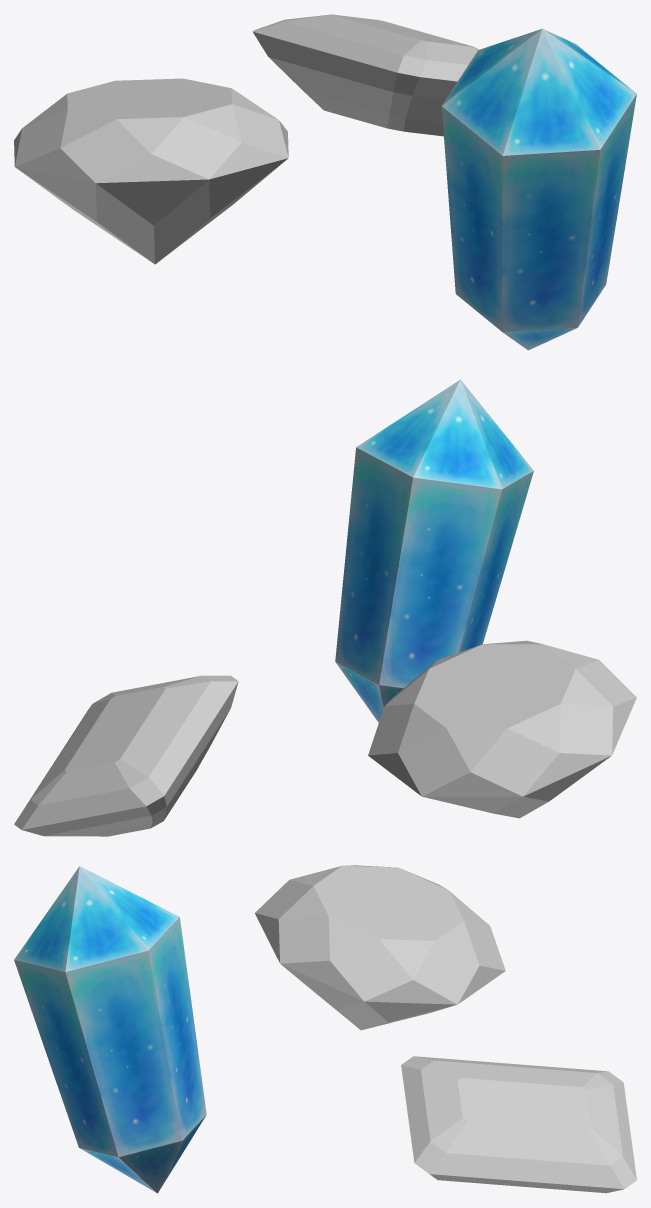
Rendered from uploads_files_741489_GemTriplePack.fbx.
3 renders of one model, top to bottom at view 1: azimuth 30°, elevation 25°; view 2: azimuth 150°, elevation 25°; view 3: azimuth 270°, elevation 25°, orthographic. The views are drawn at different scales.
Parts seen in each view (by area): view 1: Cylinder, Gem, Cube; view 2: Cylinder, Gem, Cube; view 3: Cylinder, Gem, Cube.
Part boxes in pixels (x1=…): Cylinder: x1=441, y1=28, x2=636, y2=350; Gem: x1=14, y1=78, x2=288, y2=264; Cube: x1=252, y1=14, x2=478, y2=136; Cylinder: x1=335, y1=379, x2=533, y2=722; Gem: x1=368, y1=640, x2=636, y2=818; Cube: x1=14, y1=675, x2=238, y2=836; Cylinder: x1=14, y1=866, x2=206, y2=1193; Gem: x1=255, y1=865, x2=505, y2=1030; Cube: x1=401, y1=1056, x2=636, y2=1193.
Size of the model in its own units: 500 by 439 by 278.
